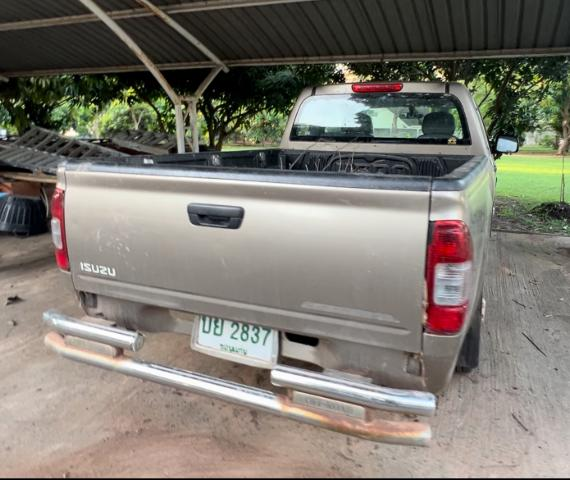pickup-truck: (41, 81, 521, 451)
